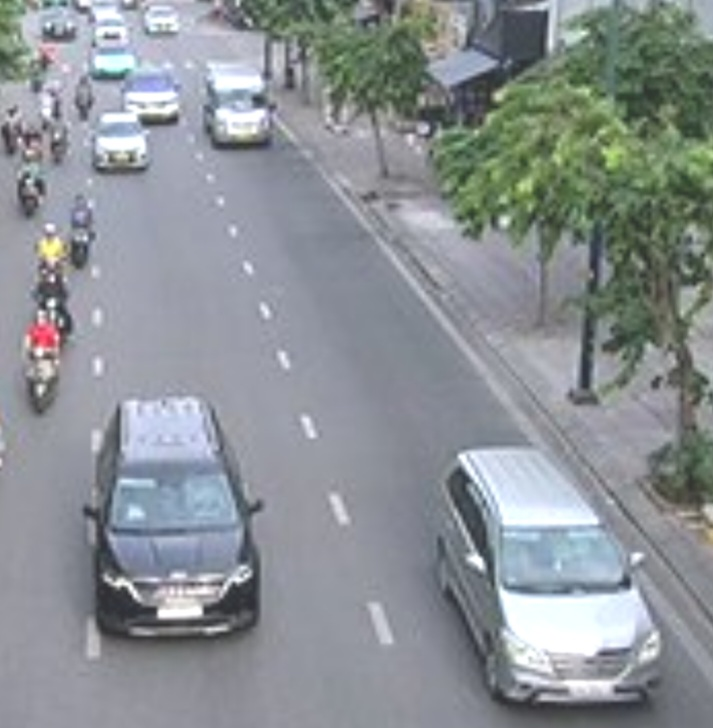car: (434, 450, 664, 705), (86, 397, 267, 639), (202, 65, 276, 148), (86, 111, 149, 178), (121, 67, 182, 125)
